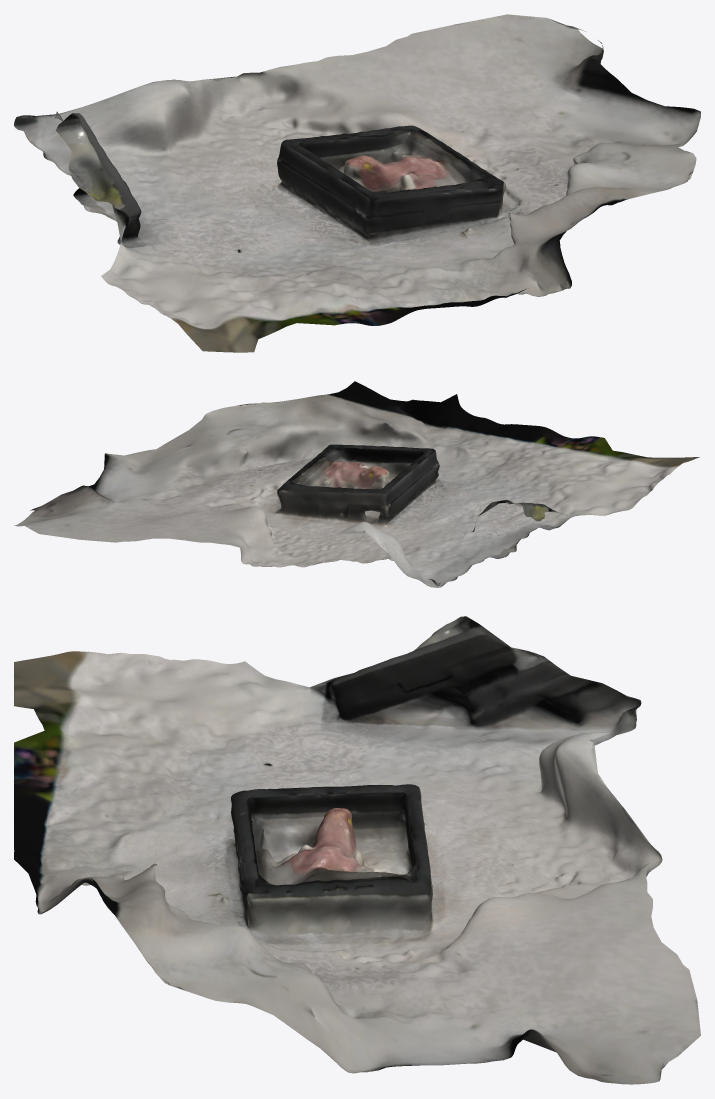
3 renders of one model, top to bottom at view 1: azimuth 30°, elevation 25°; view 2: azimuth 150°, elevation 25°; view 3: azimuth 270°, elevation 25°, orthographic. The views are drawn at different scales.
Size of the model in its own units: 2.85 by 0.5187 by 2.27.
1 material, 1 textured.
